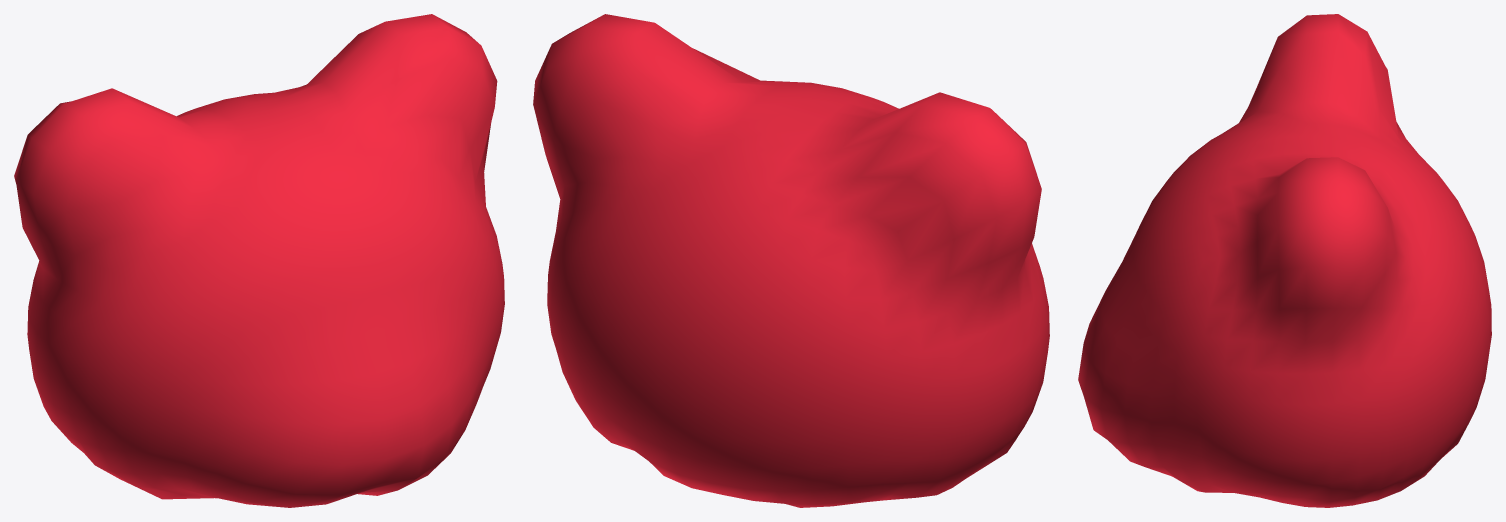
Rendered from debris_candy.glb.
3 renders of one model, left to right at view 1: azimuth 30°, elevation 25°; view 2: azimuth 150°, elevation 25°; view 3: azimuth 270°, elevation 25°, orthographic. The views are drawn at different scales.
Parts seen in each view (by area): view 1: debris_candy; view 2: debris_candy; view 3: debris_candy.
Part boxes in pixels (x1,y1,x2,y2): debris_candy: (14, 14, 504, 507); debris_candy: (533, 14, 1049, 507); debris_candy: (1078, 14, 1491, 507).
Bounding box in the file's own units: 0.2577 × 0.206 × 0.2101.
